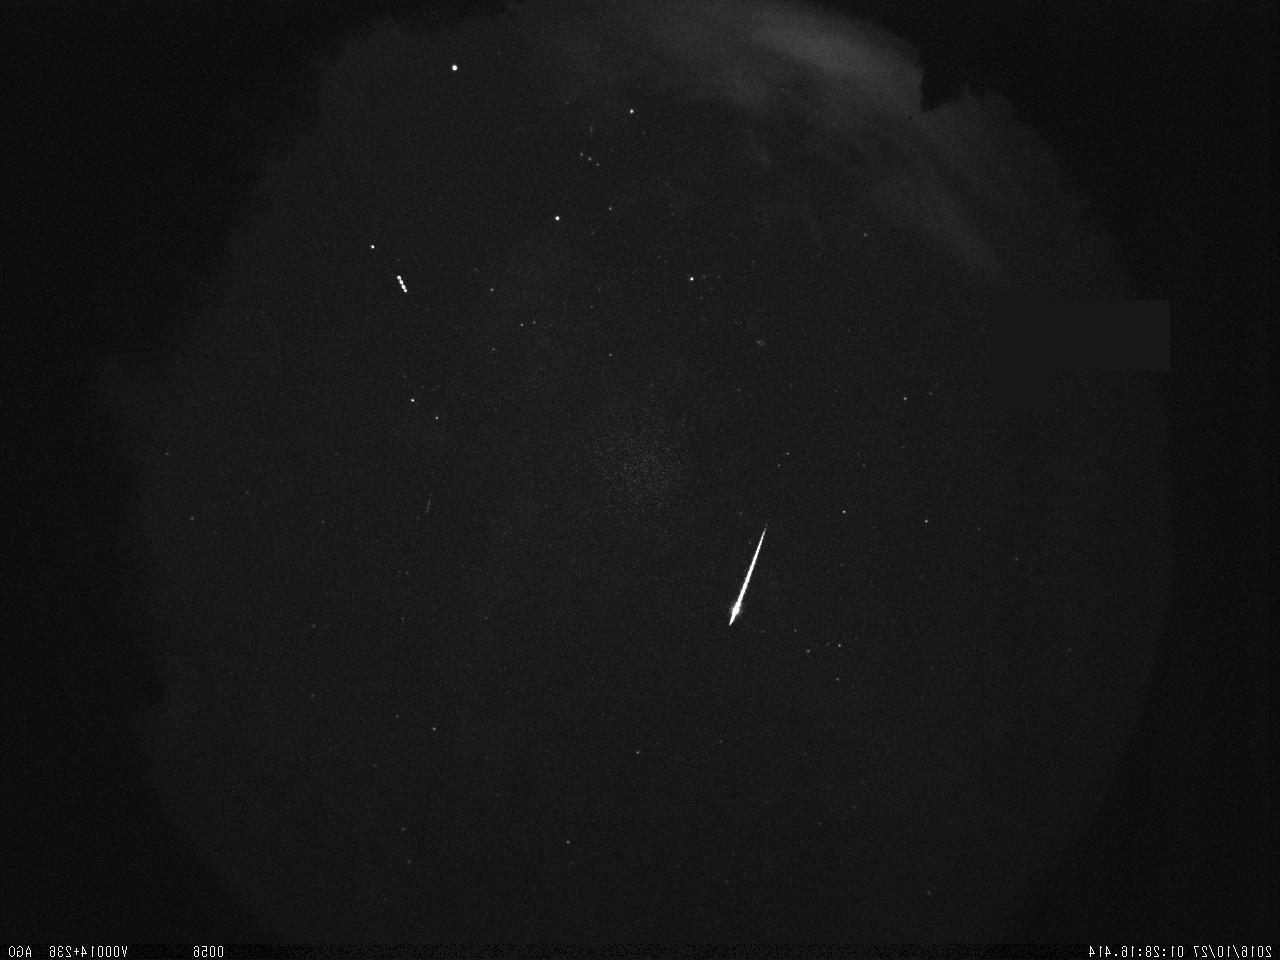meteor: (718, 513, 771, 641)
satelite: (387, 267, 415, 299)
